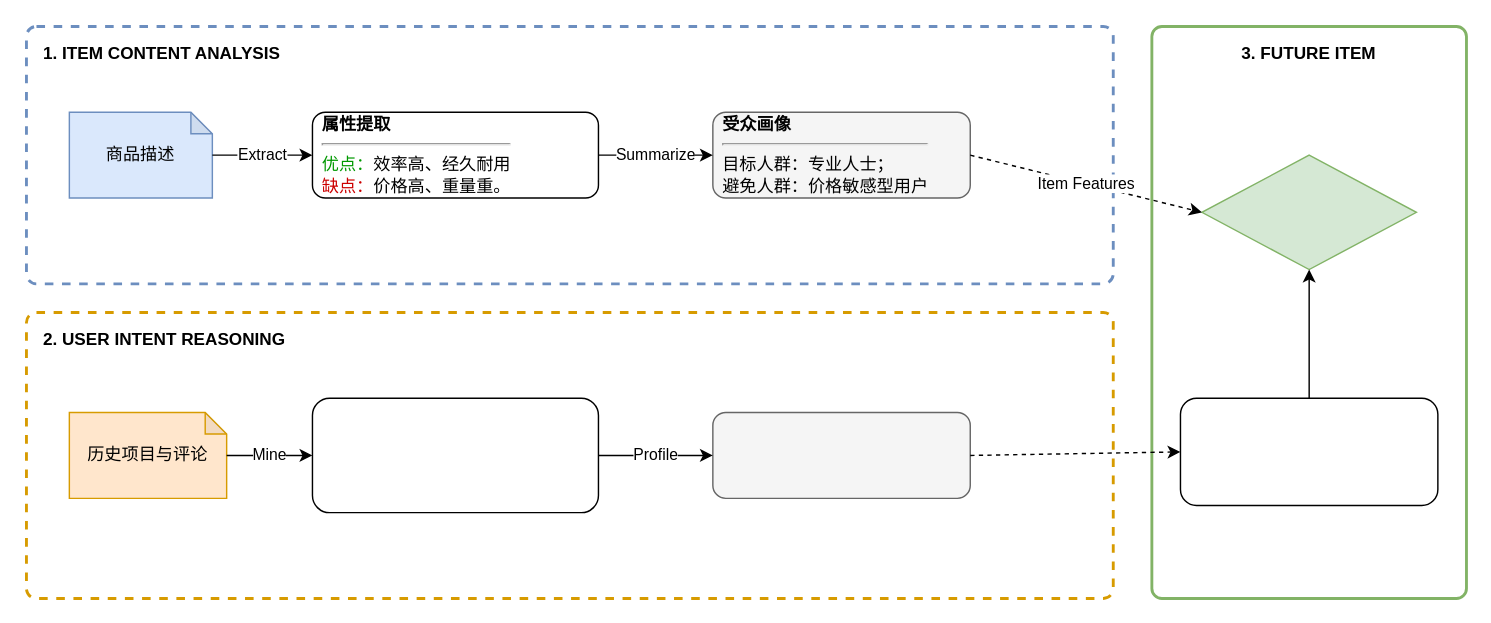
The diagram is 1491 pixels wide and 623 high, and some of its shapes have lost their labels. Here are the shapes that lost their labels. From the top down, the centre of each, then its label:
At point (1308, 212): "相似度检索匹配".
At point (454, 455): "偏好提取 项目 A：“速度很快” 评论 A：“易于使用” >> 摘录：速度、易用性".
At point (840, 454): "用户画像概要 优点： 效率高、质量 好； 缺点： 设置复杂".
At point (1308, 451): "Acquire Item A product that provides High Efficiency but is Easy to Use .".
